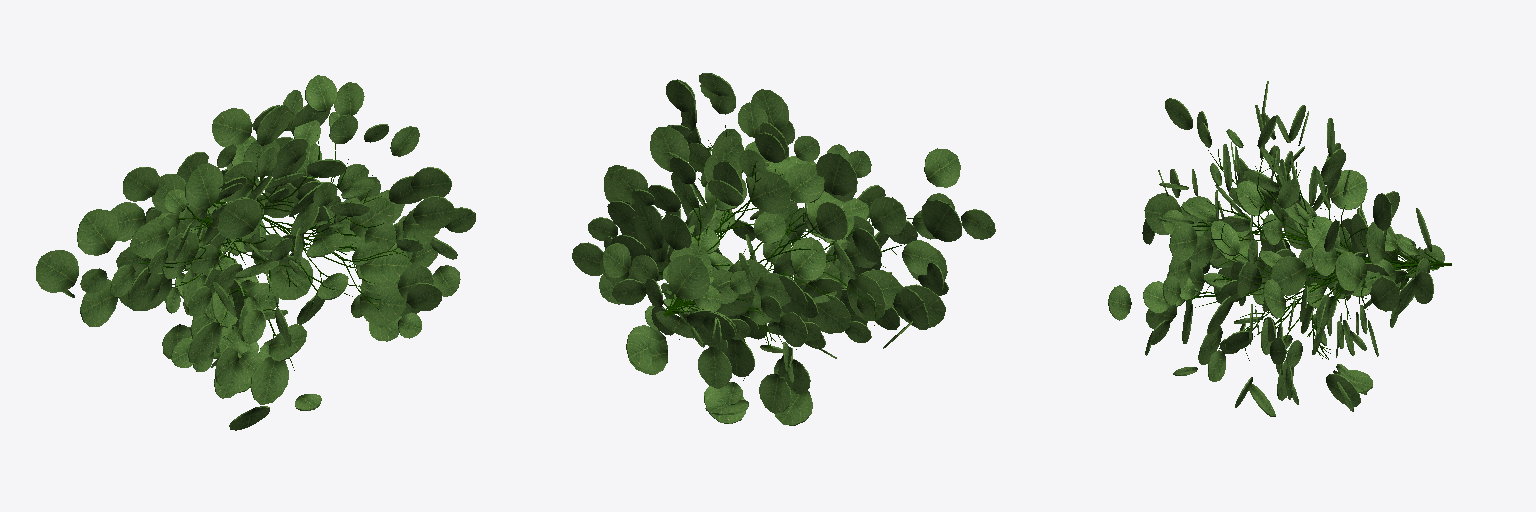
The picture shows the model from 3 angles: view 1: azimuth 30°, elevation 25°; view 2: azimuth 150°, elevation 25°; view 3: azimuth 270°, elevation 25°; orthographic projection.
Parts seen in each view (by area): view 1: leaves.015, tree.015; view 2: leaves.015, tree.015; view 3: leaves.015, tree.015.
Part boxes in pixels (left/top/right/bottom): leaves.015: left=36, top=75, right=475, bottom=430; tree.015: left=132, top=135, right=414, bottom=370; leaves.015: left=572, top=73, right=995, bottom=425; tree.015: left=659, top=125, right=920, bottom=380; leaves.015: left=1108, top=81, right=1444, bottom=416; tree.015: left=1181, top=149, right=1451, bottom=360.
Size of the model in its own units: 0.7197 by 0.6057 by 0.5642.
Materials: 2 (2 with a texture image).